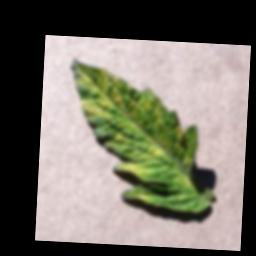Leaf_Mold: (64, 58, 220, 213)
